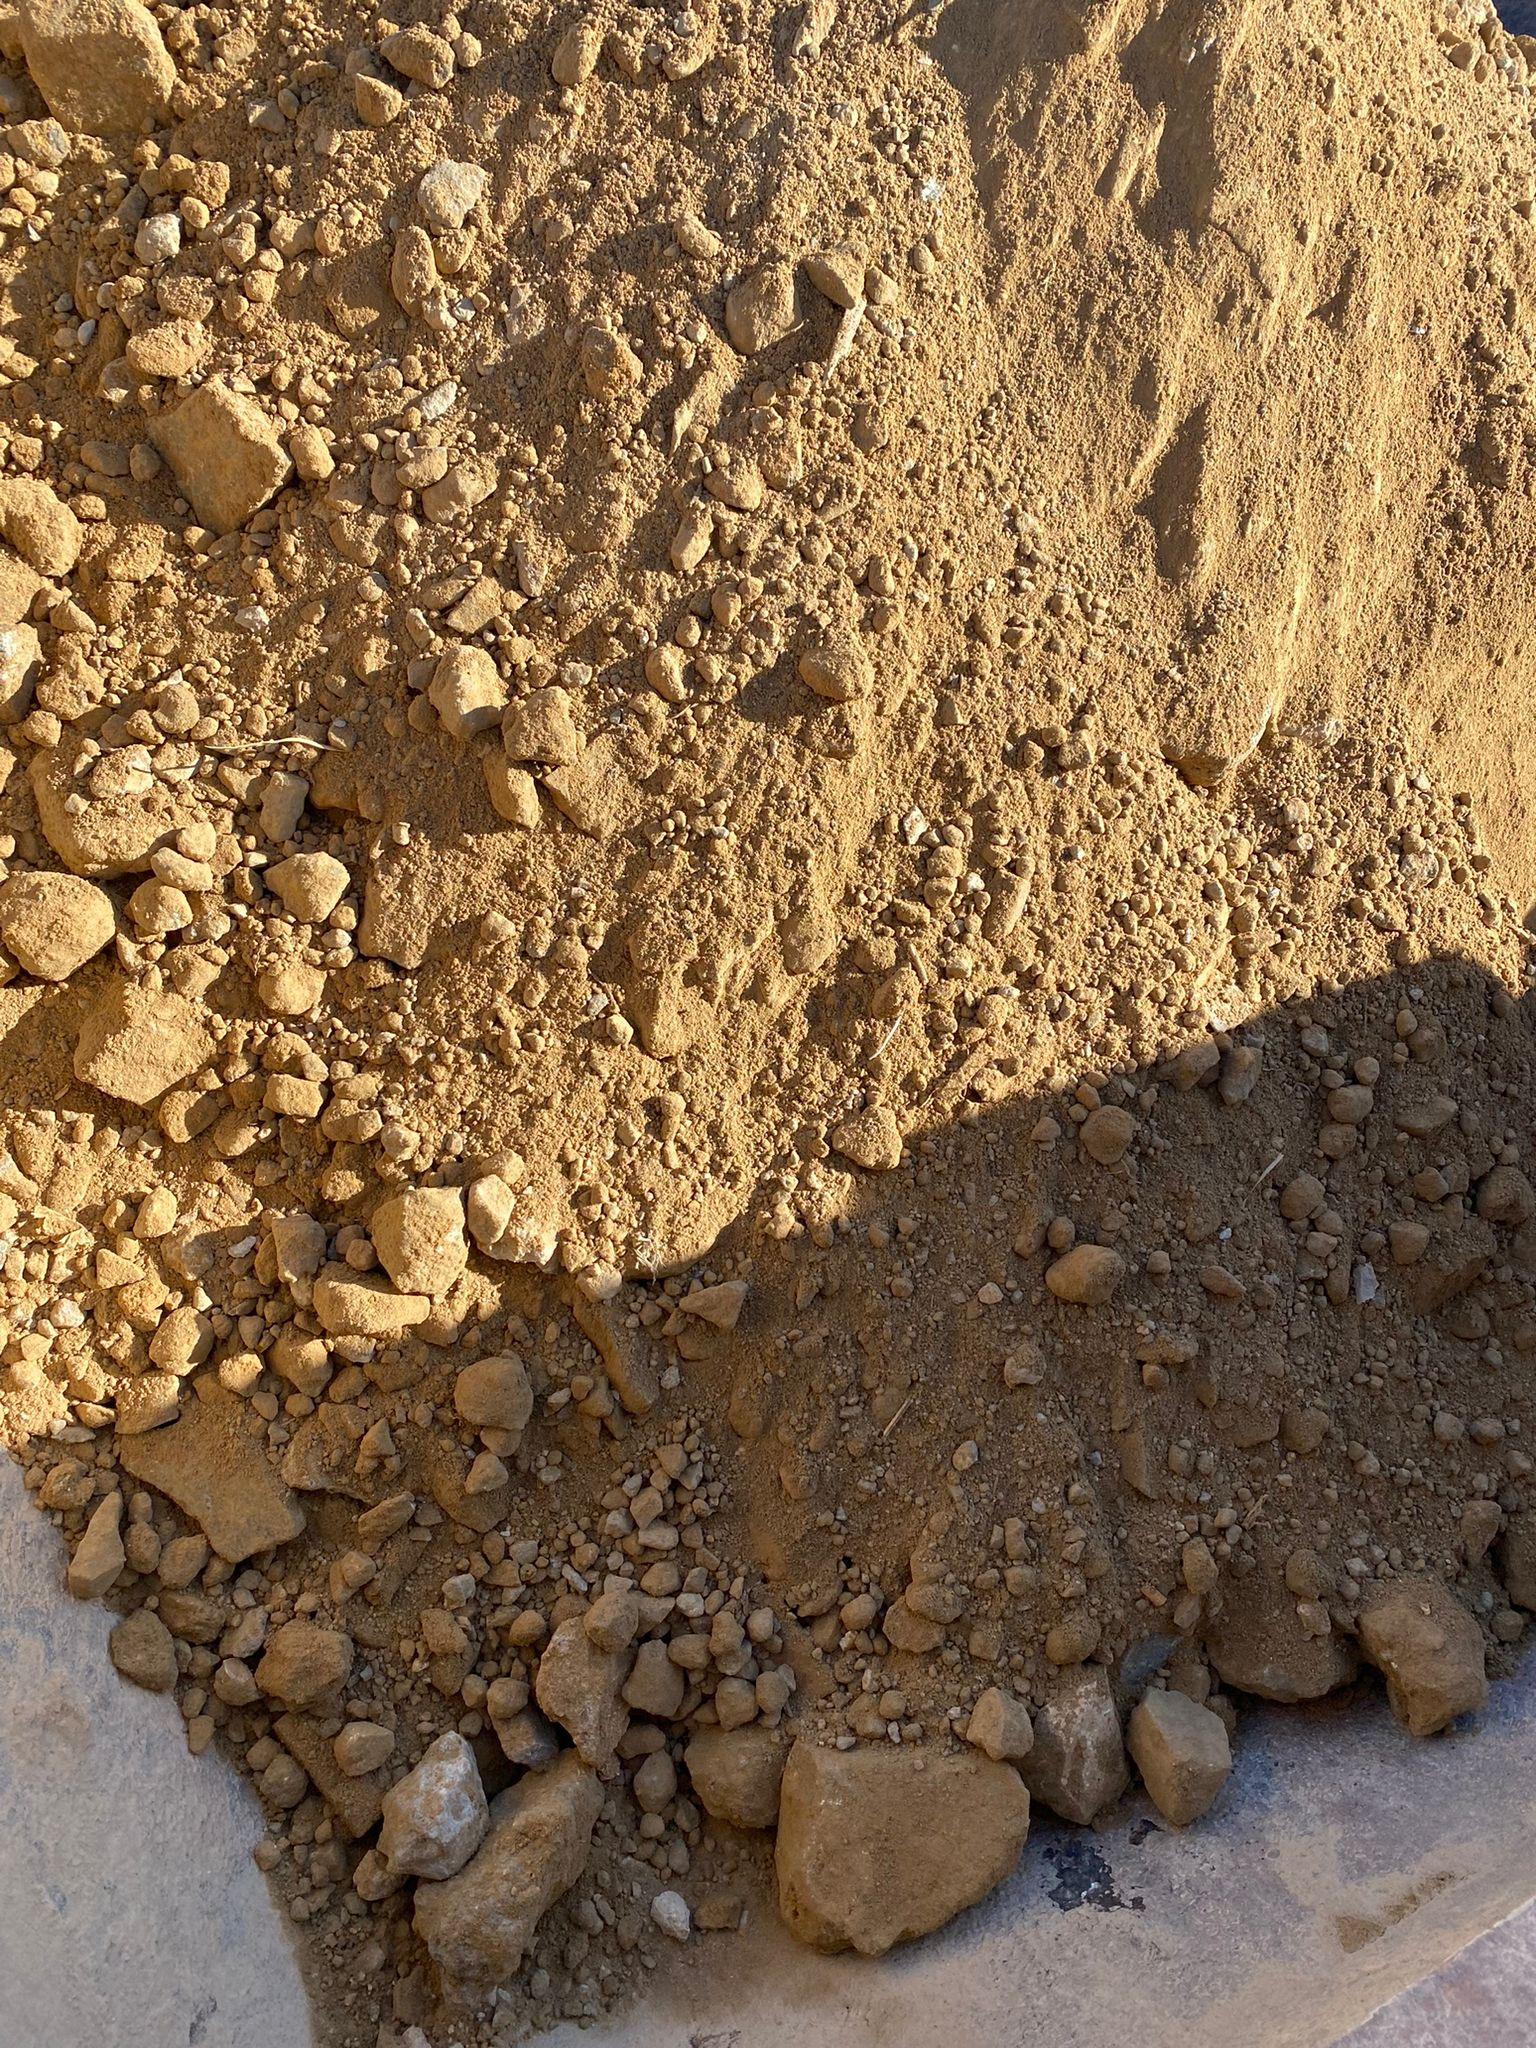dry: (6, 0, 1536, 1684)
